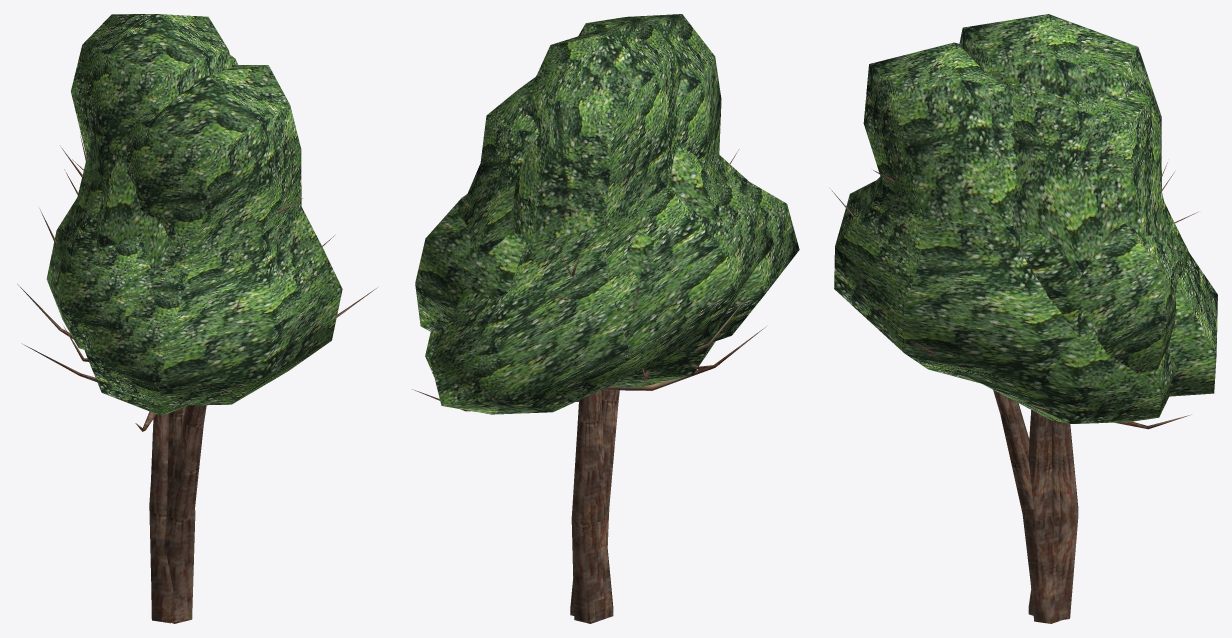
File: newTreezA.fbx
3 renders of one model, left to right at view 1: azimuth 30°, elevation 25°; view 2: azimuth 150°, elevation 25°; view 3: azimuth 270°, elevation 25°, orthographic. The views are drawn at different scales.
Parts seen in each view (by area): view 1: Cube.005, Cube.001, Cube.004, Cube.003; view 2: Cube.001, Cube.004, Cube.005, Cube.003; view 3: Cube.005, Cube.003, Cube.001, Cube.004.
Boxes of the visible parts, left/top/right/bottom form: Cube.005: left=23, top=65, right=377, bottom=598; Cube.001: left=17, top=14, right=231, bottom=567; Cube.004: left=39, top=134, right=188, bottom=623; Cube.003: left=72, top=54, right=334, bottom=623; Cube.001: left=430, top=17, right=773, bottom=623; Cube.004: left=415, top=140, right=766, bottom=621; Cube.005: left=578, top=14, right=799, bottom=547; Cube.003: left=412, top=77, right=606, bottom=615; Cube.005: left=831, top=42, right=1077, bottom=578; Cube.003: left=960, top=81, right=1191, bottom=623; Cube.001: left=959, top=14, right=1217, bottom=619; Cube.004: left=1020, top=162, right=1187, bottom=615.
Size of the model in its own units: 144 by 277 by 164.
